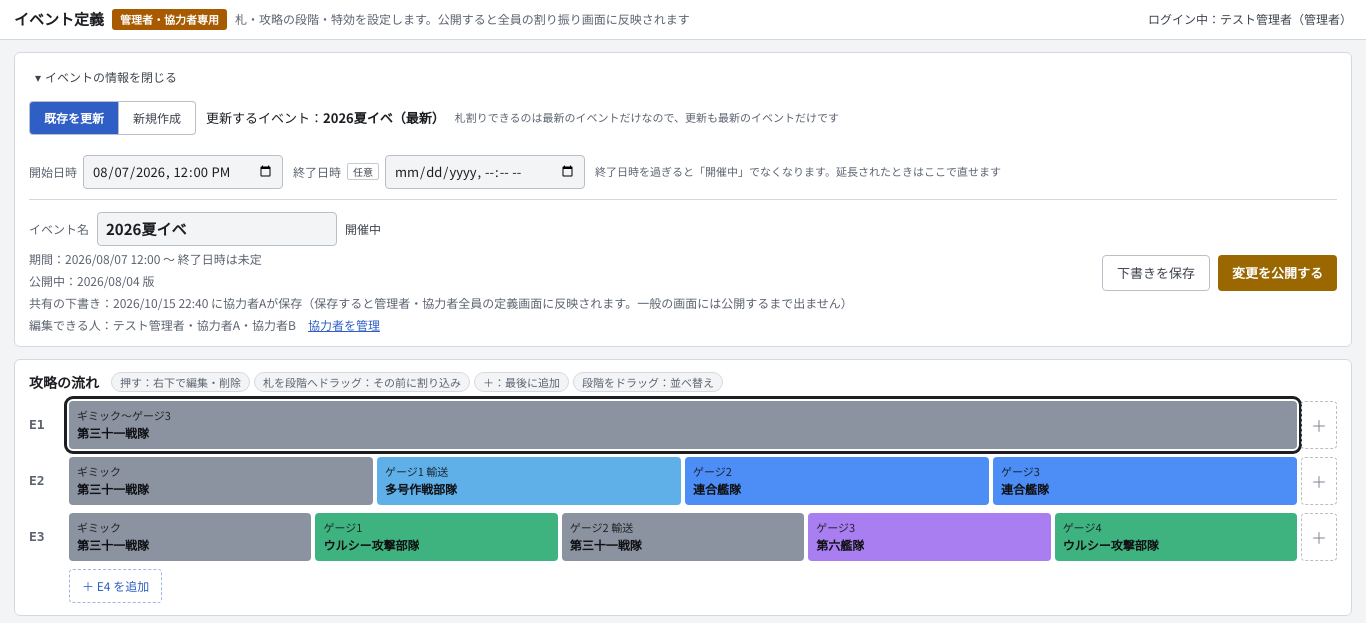
イベント定義の画面（PlanEditor）：保存時の衝突の確認（同時編集） › 同じ所を 2 人が変えていたとき（衝突あり）：確認のウィンドウで選ばせる › 確認のウィンドウに、相手の名前と保存した日時、自動で合わせた所、衝突した所と 2 つの選択肢を出し、まだ保存し直さない
The image size is (1366, 623).
Expected: the element "攻略の流れ" is shown, [14, 358, 1352, 616]
Click the button "ゲージ3 連合艦隊". click: (1020,470)
box: [993, 456, 1297, 504]
(page scrolled)
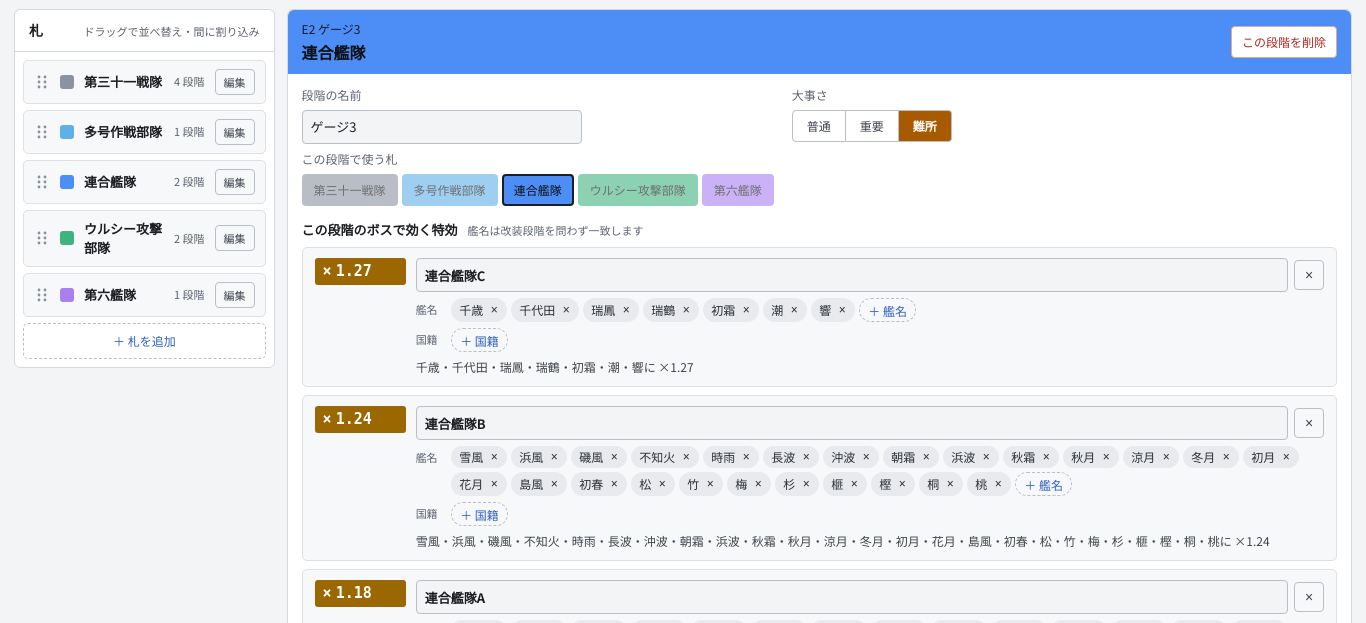
Click the button "普通". click: (819,126)
box: [792, 110, 846, 142]
(page scrolled)
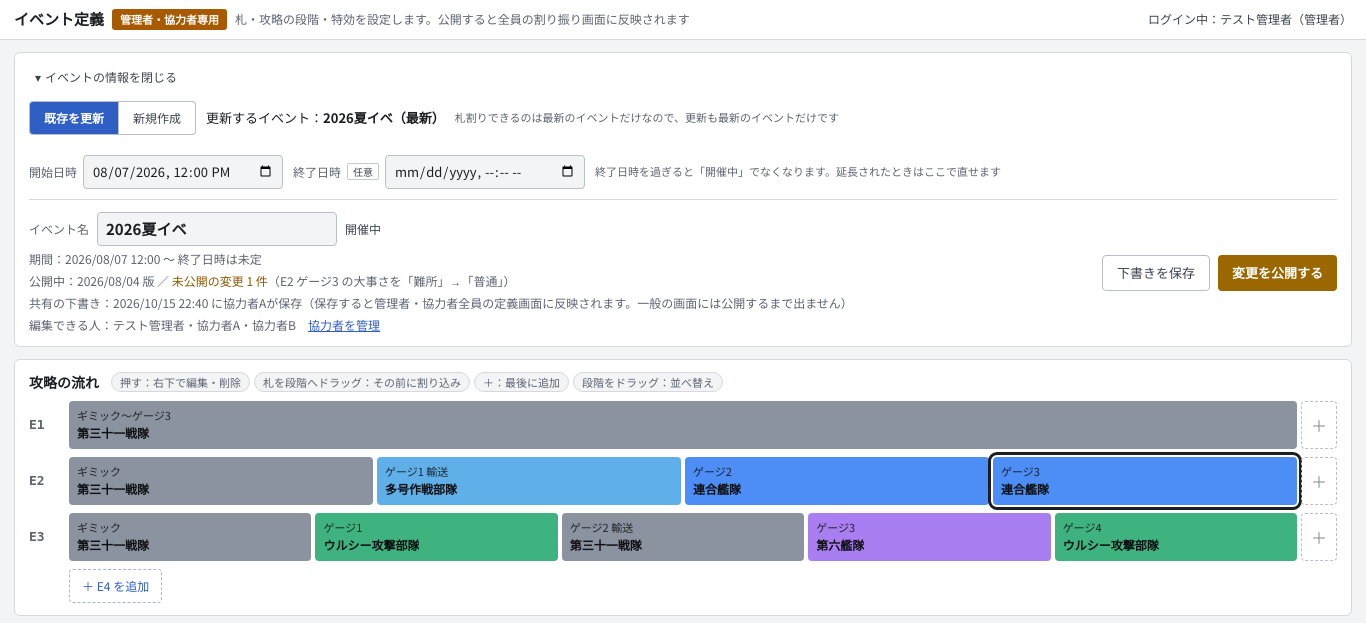
Click the button "下書きを保存". click: (1156,272)
box: [1102, 254, 1210, 290]
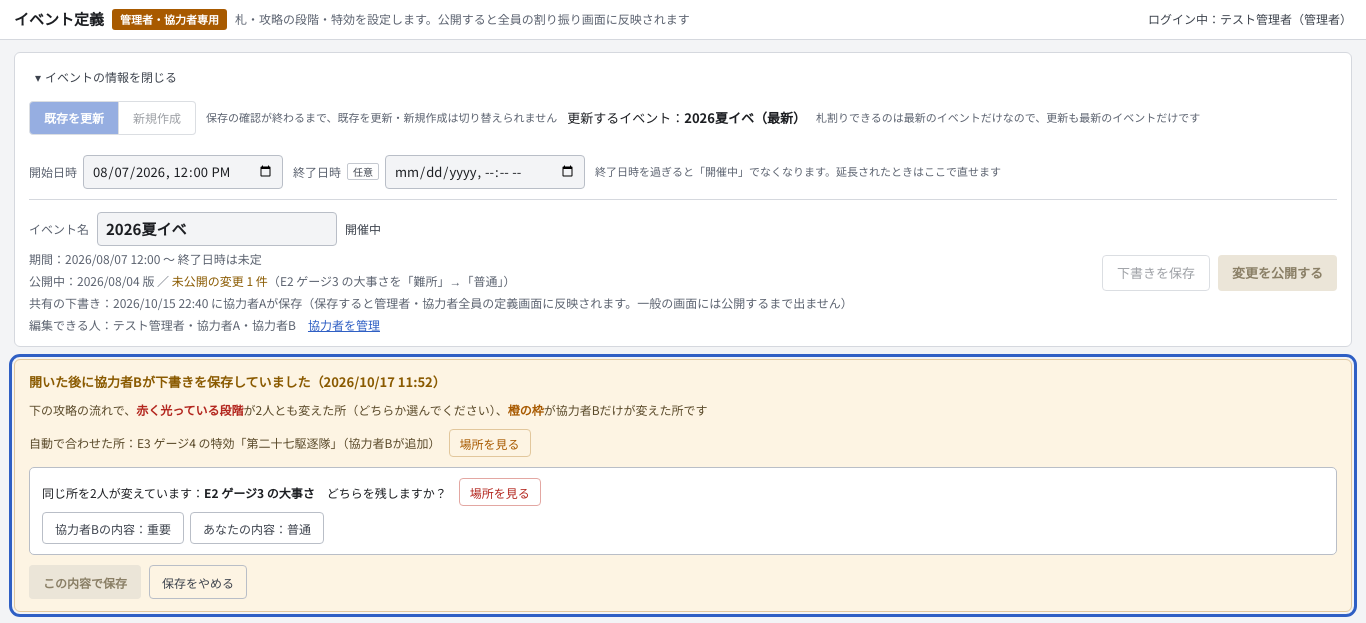
Expected: the dialog named "保存の確認" shows "どちらを残しますか？", [315, 484, 447, 500]
Expected: the radio button labelled "あなたの内容：普通" is shown, [190, 512, 324, 544]
Expected: the button "この内容で保存" is disabled, [29, 565, 141, 599]
